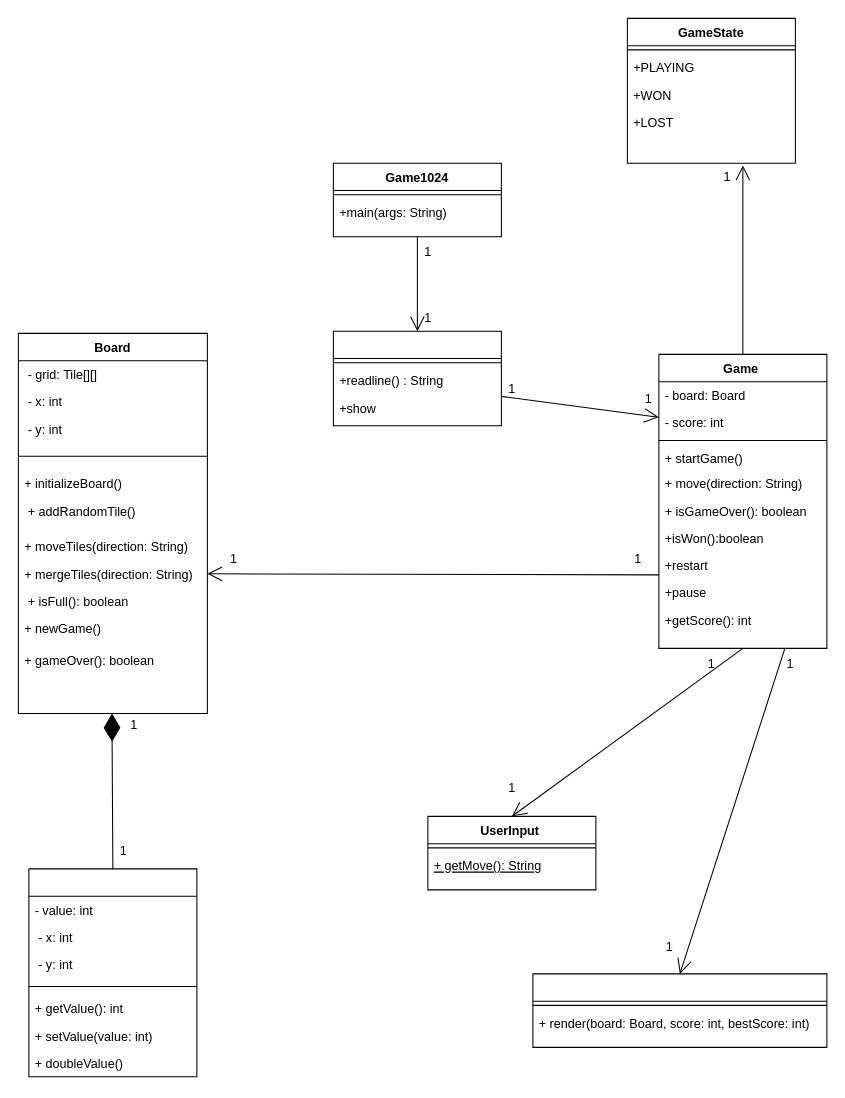
Some shapes in this 845 by 1098 pixel diagram are drawn without their labels. The box of each missing label's shape, as (x1, y1, x2, y2) in pixels:
Console: (332, 330, 501, 426)
Renderer: (532, 973, 827, 1047)
Tile: (28, 868, 197, 1077)
